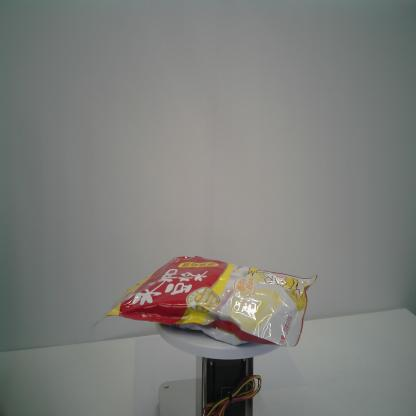Instant Drink: (87, 255, 318, 349)
